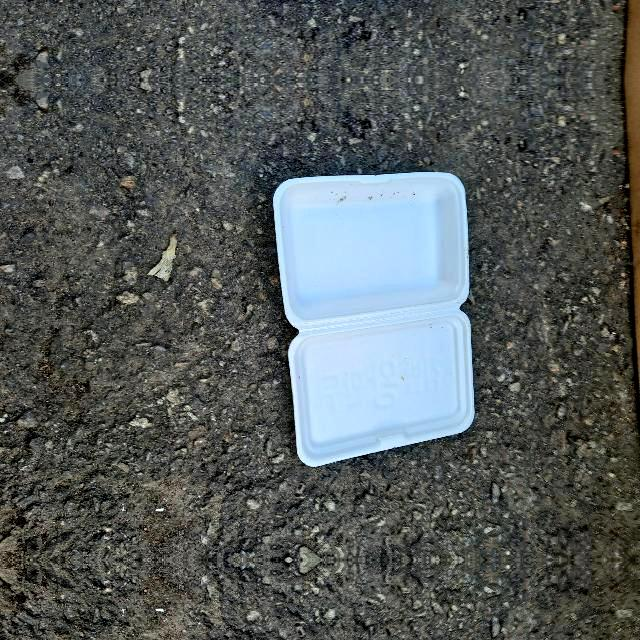Styrofoam: (273, 171, 475, 467), (274, 172, 476, 466)
